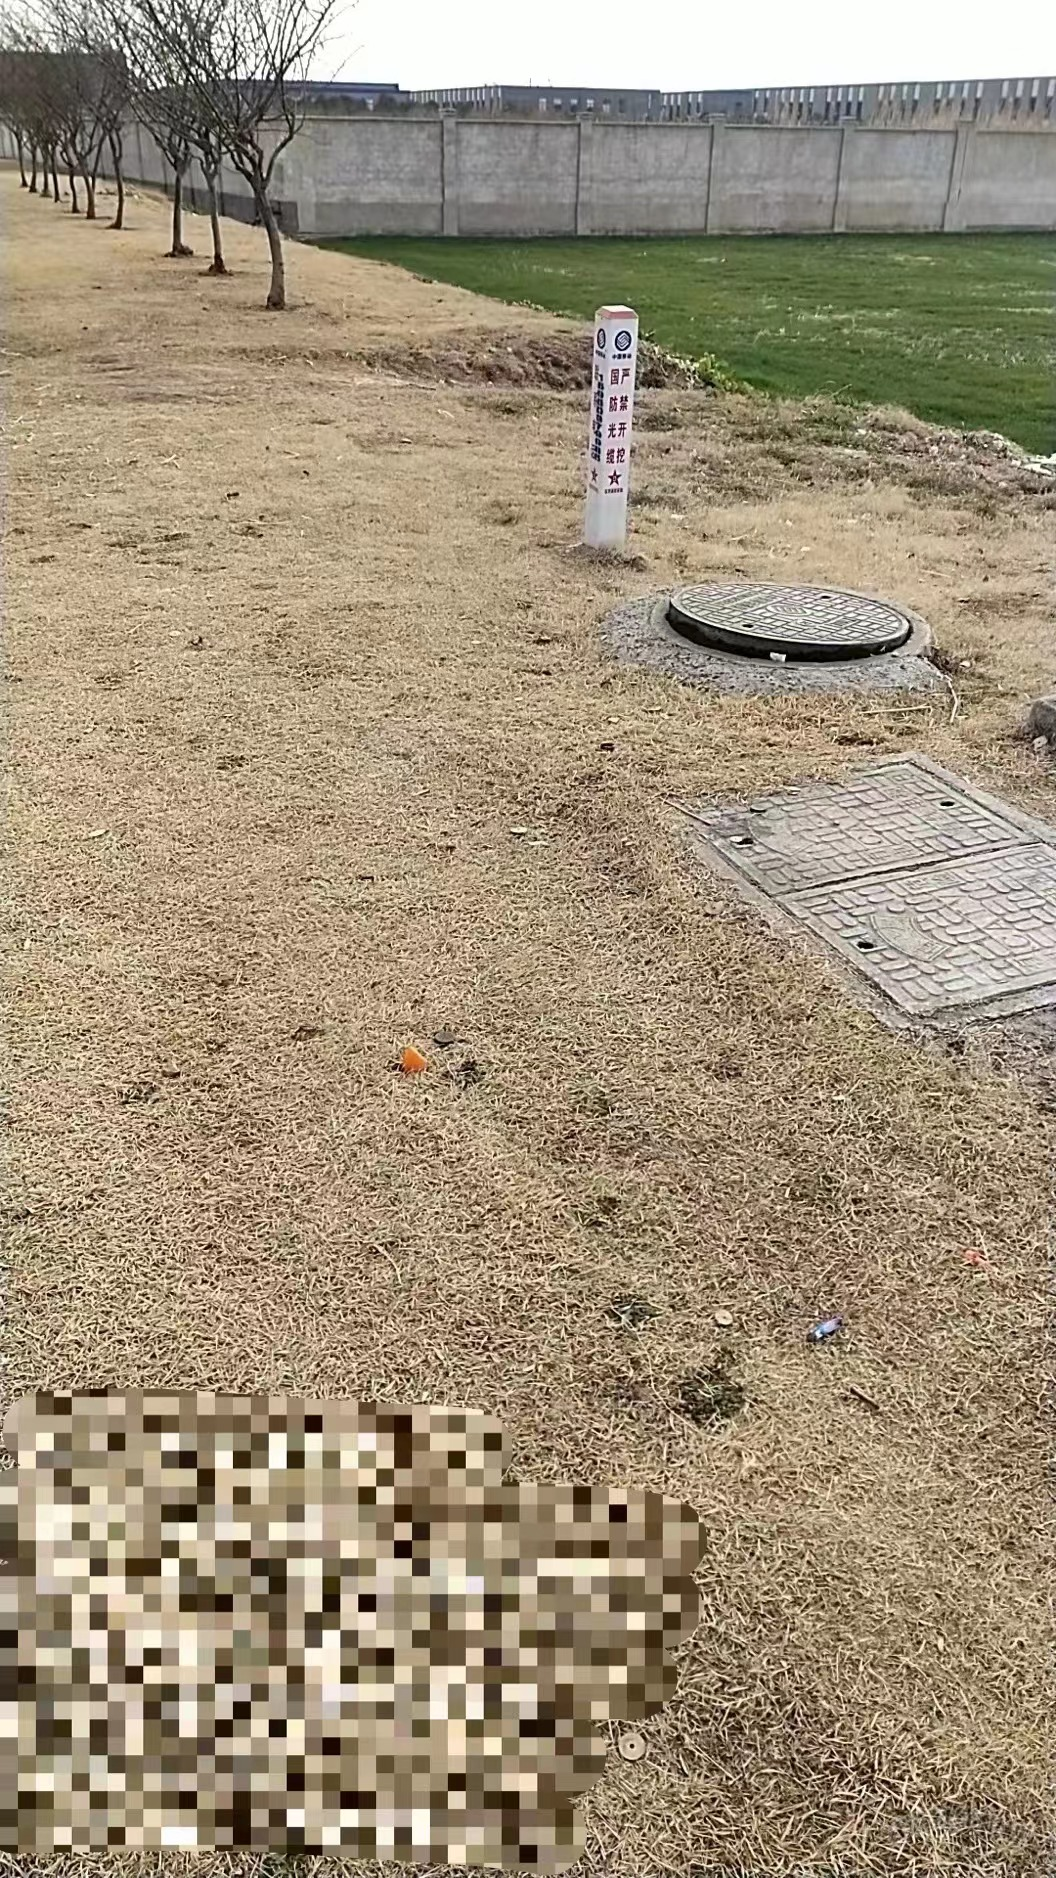well: (674, 767, 1056, 1036), (659, 575, 921, 669)
